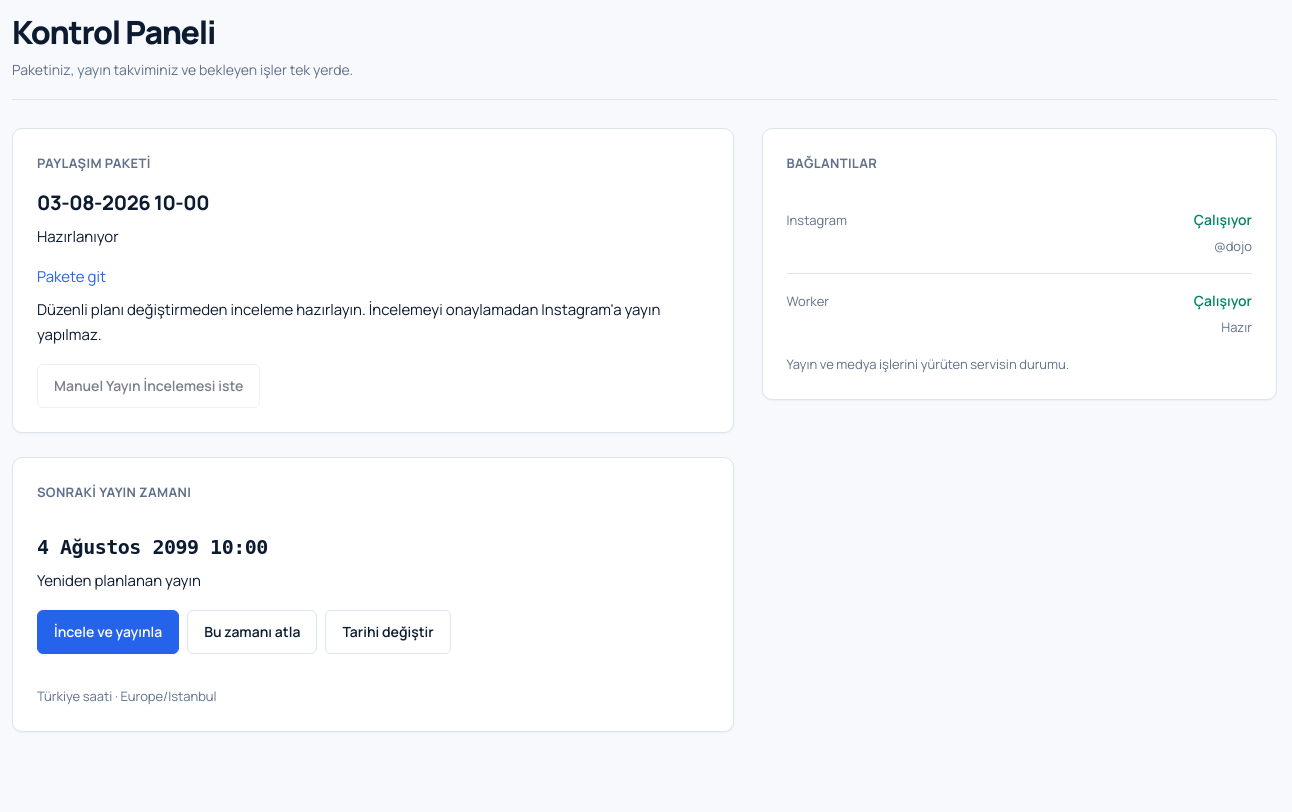
it: waits for the requested oneoff's review, ignores other reviews, and opens approval once
Step 1. Click the button "İncele ve yayınla" → (108,632), box top-left (37, 610), bottom-right (179, 654)
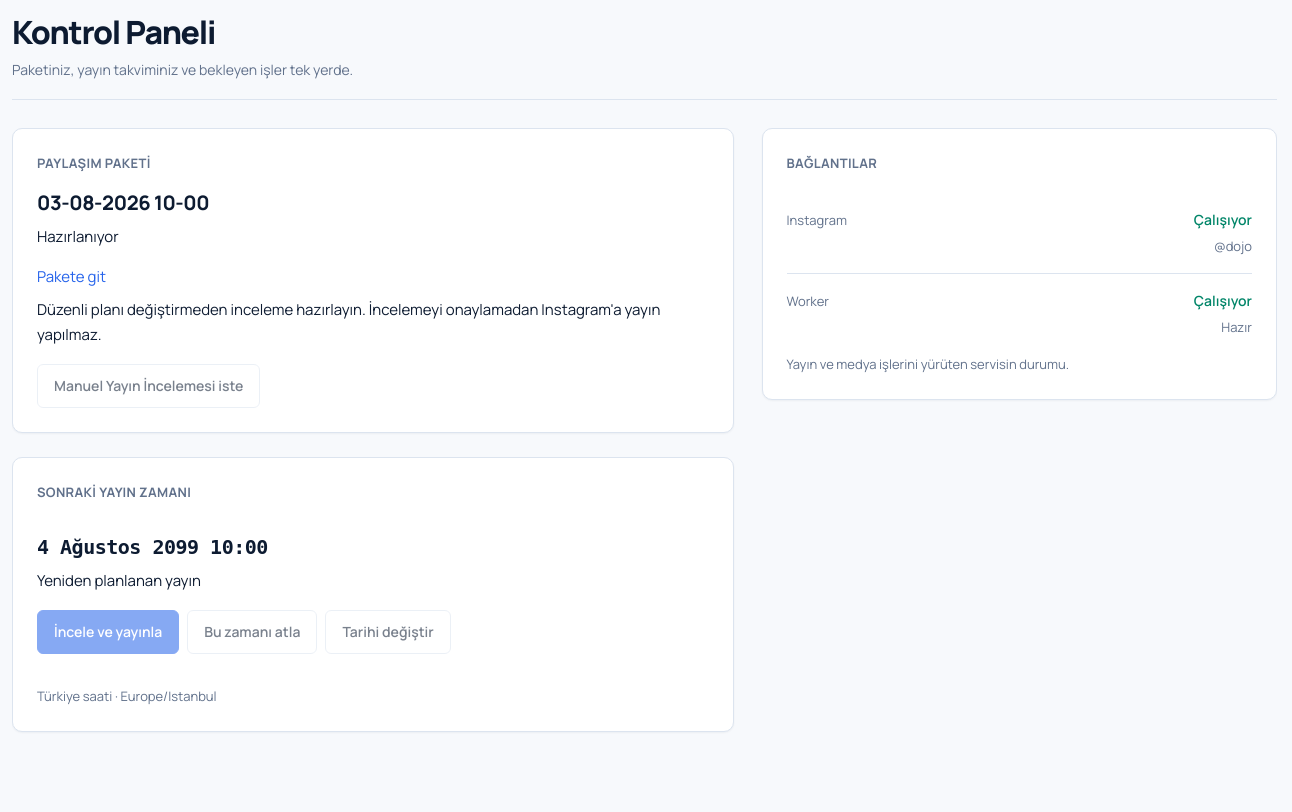
Step 2. Click the button "İncele ve yayınla" → (108,632), box top-left (37, 610), bottom-right (179, 654)
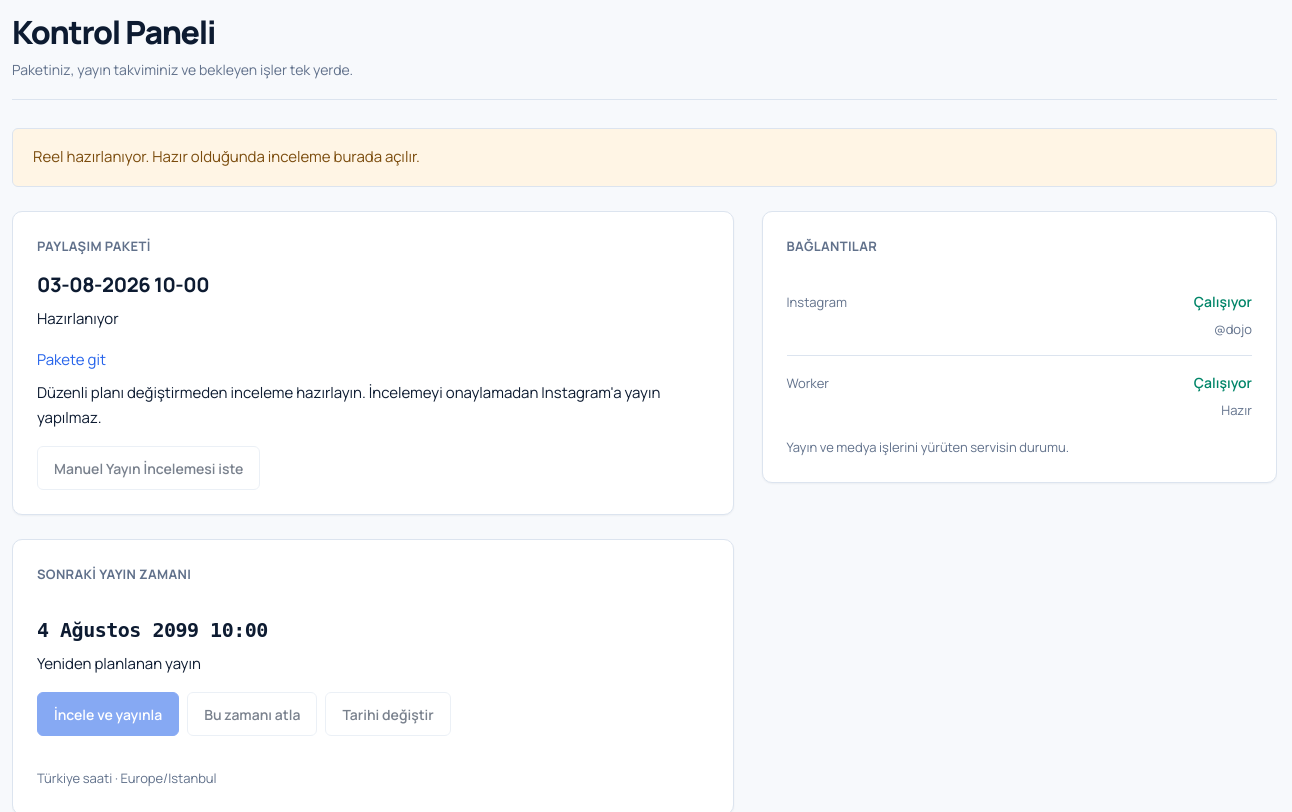
Result: the text "Reel hazırlanıyor. Hazır olduğunda inceleme burada açılır." is shown at top-left (12, 128), bottom-right (1277, 187)
